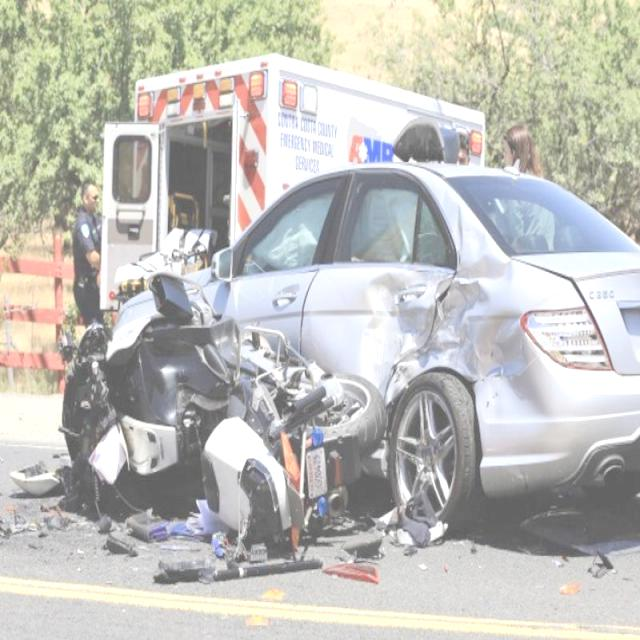accident: (0, 55, 638, 590)
